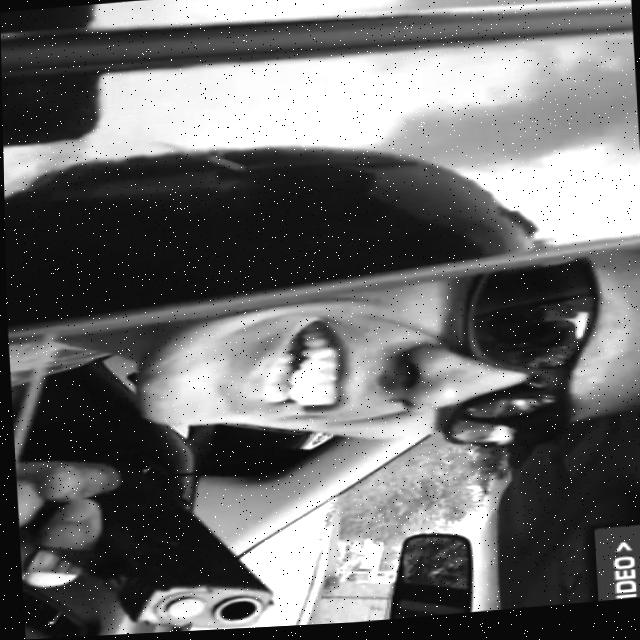pistol: (26, 469, 276, 639)
